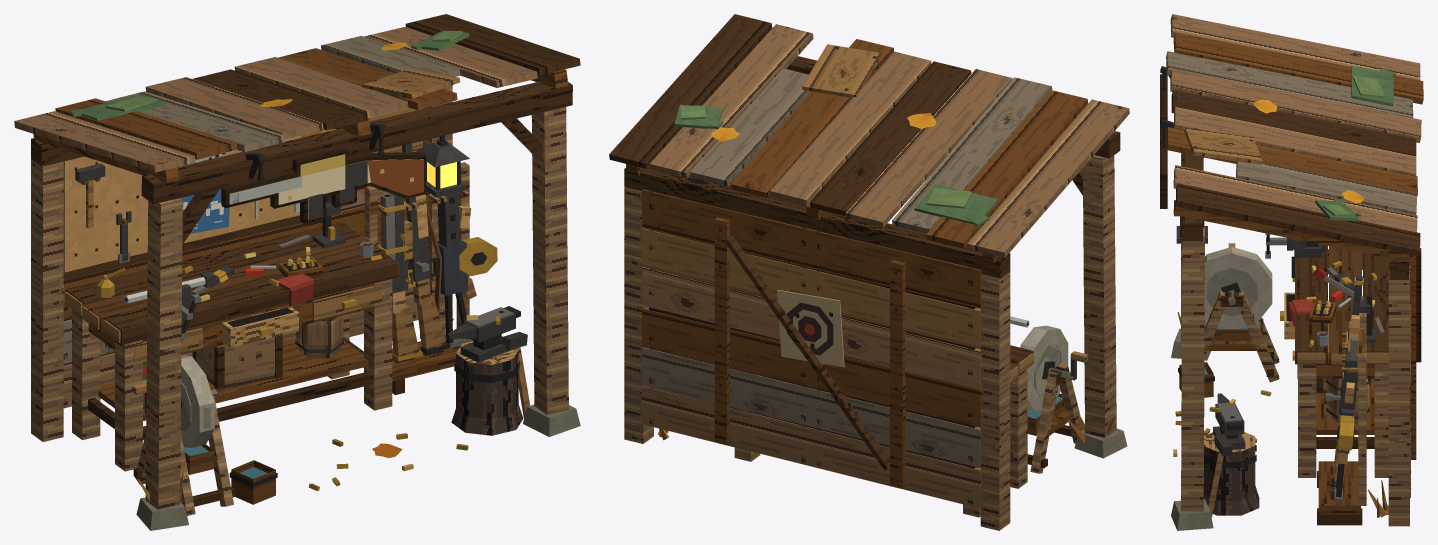
The model's file is op_gunsmith.glb.
3 views of the same model, side by side, from view 1: azimuth 30°, elevation 25°; view 2: azimuth 150°, elevation 25°; view 3: azimuth 270°, elevation 25° (orthographic). The views are drawn at different scales.
Visible parts, largest first — view 1: op_gunsmith, sway_sign, spinX_grindstone; view 2: op_gunsmith, spinX_grindstone; view 3: op_gunsmith, spinX_grindstone, sway_sign.
Boxes of the visible parts, left/top/right/bottom form: op_gunsmith: left=14, top=14, right=580, bottom=530; sway_sign: left=221, top=131, right=426, bottom=223; spinX_grindstone: left=132, top=355, right=217, bottom=447; op_gunsmith: left=609, top=14, right=1129, bottom=530; spinX_grindstone: left=1020, top=325, right=1087, bottom=411; op_gunsmith: left=1160, top=14, right=1423, bottom=530; spinX_grindstone: left=1204, top=243, right=1272, bottom=329; sway_sign: left=1160, top=73, right=1167, bottom=208.
Bounding box in the file's own units: 3.2 × 2.59 × 1.87.
Materials: 60 (32 with a texture image).
